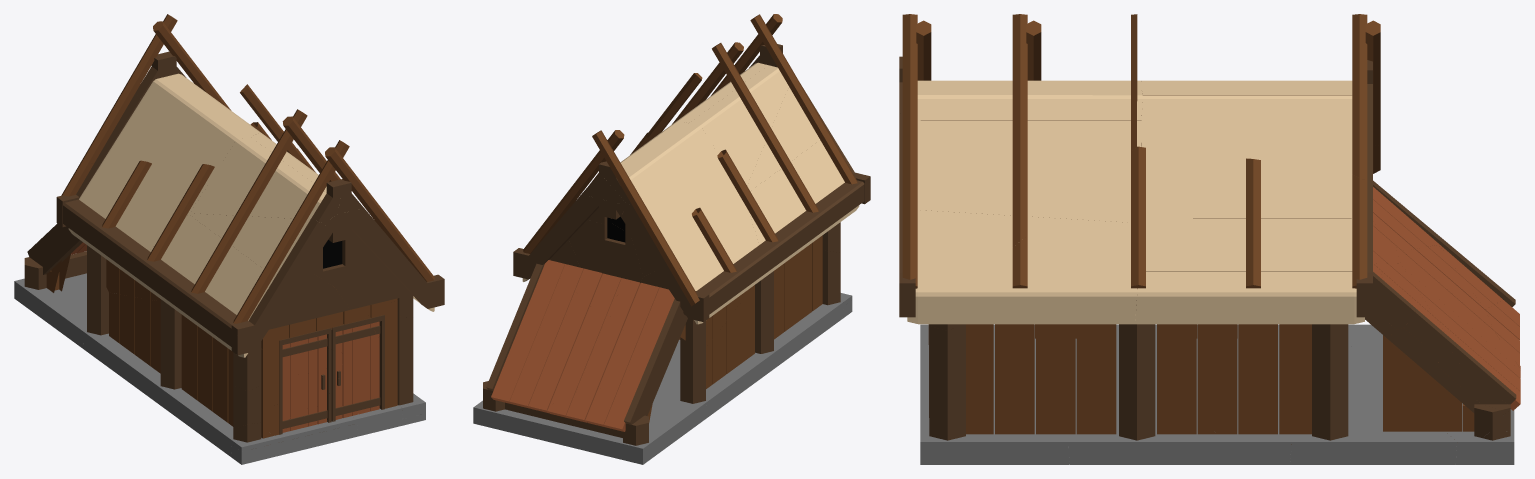
Rendered from HouseBroken#1.fbx.
3 renders of one model, left to right at view 1: azimuth 30°, elevation 25°; view 2: azimuth 150°, elevation 25°; view 3: azimuth 270°, elevation 25°, orthographic. The views are drawn at different scales.
Visible parts, largest first — view 1: HouseBroken#1.009_cell.005, HouseBroken#1.001_cell.009, HouseBroken#1.009_cell.001, HouseBroken#1.009_cell.003, HouseBroken#1.005_cell.006, HouseBroken#1.010_cell.007, HouseBroken#1.011_cell.003, HouseBroken#1.005_cell.005, HouseBroken#1.009_cell.009, HouseBroken#1.010_cell.004, HouseBroken#1.011_cell.001, HouseBroken#1.002_cell.009 (+49 smaller); view 2: HouseBroken#1.009_cell.005, HouseBroken#1.005_cell.005, HouseBroken#1.009_cell.001, HouseBroken#1.001_cell.009, HouseBroken#1.009_cell.003, HouseBroken#1.005_cell.006, HouseBroken#1.010_cell.002, HouseBroken#1.011_cell.004, HouseBroken#1.009_cell.009, HouseBroken#1.011_cell.005, HouseBroken#1.004_cell.001, HouseBroken#1.008_cell.018 (+51 smaller); view 3: HouseBroken#1.009_cell.007, HouseBroken#1.009_cell.006, HouseBroken#1.009_cell.008, HouseBroken#1.009_cell, HouseBroken#1.009_cell.002, HouseBroken#1.005_cell, HouseBroken#1.009_cell.004, HouseBroken#1.005_cell.003, HouseBroken#1_cell.030, HouseBroken#1_cell.002, HouseBroken#1_cell.027, HouseBroken#1_cell.031 (+49 smaller).
Boxes of the visible parts, x1=… form: HouseBroken#1.009_cell.005: x1=79, y1=73, x2=259, y2=250; HouseBroken#1.001_cell.009: x1=63, y1=199, x2=259, y2=347; HouseBroken#1.009_cell.001: x1=190, y1=136, x2=326, y2=219; HouseBroken#1.009_cell.003: x1=134, y1=215, x2=274, y2=357; HouseBroken#1.005_cell.006: x1=83, y1=331, x2=233, y2=456; HouseBroken#1.010_cell.007: x1=331, y1=230, x2=411, y2=309; HouseBroken#1.011_cell.003: x1=325, y1=208, x2=444, y2=308; HouseBroken#1.005_cell.005: x1=14, y1=273, x2=86, y2=348; HouseBroken#1.009_cell.009: x1=189, y1=213, x2=309, y2=276; HouseBroken#1.010_cell.004: x1=269, y1=271, x2=350, y2=329; HouseBroken#1.011_cell.001: x1=269, y1=217, x2=328, y2=303; HouseBroken#1.002_cell.009: x1=325, y1=147, x2=434, y2=281; HouseBroken#1.009_cell.005: x1=621, y1=121, x2=758, y2=290; HouseBroken#1.005_cell.005: x1=473, y1=398, x2=706, y2=464; HouseBroken#1.009_cell.001: x1=689, y1=65, x2=788, y2=185; HouseBroken#1.001_cell.009: x1=683, y1=182, x2=864, y2=315; HouseBroken#1.009_cell.003: x1=749, y1=140, x2=859, y2=280; HouseBroken#1.005_cell.006: x1=673, y1=302, x2=843, y2=418; HouseBroken#1.010_cell.002: x1=568, y1=220, x2=643, y2=282; HouseBroken#1.011_cell.004: x1=513, y1=194, x2=626, y2=279; HouseBroken#1.009_cell.009: x1=747, y1=87, x2=819, y2=190; HouseBroken#1.011_cell.005: x1=621, y1=204, x2=709, y2=322; HouseBroken#1.004_cell.001: x1=680, y1=318, x2=705, y2=403; HouseBroken#1.008_cell.018: x1=549, y1=306, x2=607, y2=405; HouseBroken#1.009_cell.007: x1=1141, y1=95, x2=1352, y2=218; HouseBroken#1.009_cell.006: x1=907, y1=210, x2=1137, y2=324; HouseBroken#1.009_cell.008: x1=917, y1=120, x2=1141, y2=222; HouseBroken#1.009_cell: x1=1135, y1=271, x2=1364, y2=324; HouseBroken#1.009_cell.002: x1=1146, y1=218, x2=1352, y2=270; HouseBroken#1.005_cell: x1=1068, y1=357, x2=1291, y2=464; HouseBroken#1.009_cell.004: x1=917, y1=88, x2=1142, y2=120; HouseBroken#1.005_cell.003: x1=1291, y1=344, x2=1457, y2=450; HouseBroken#1_cell.030: x1=1076, y1=324, x2=1116, y2=434; HouseBroken#1_cell.002: x1=1238, y1=324, x2=1277, y2=434; HouseBroken#1_cell.027: x1=995, y1=324, x2=1034, y2=434; HouseBroken#1_cell.031: x1=1036, y1=324, x2=1075, y2=434.
Size of the model in its own units: 1268 by 1751 by 2523.
